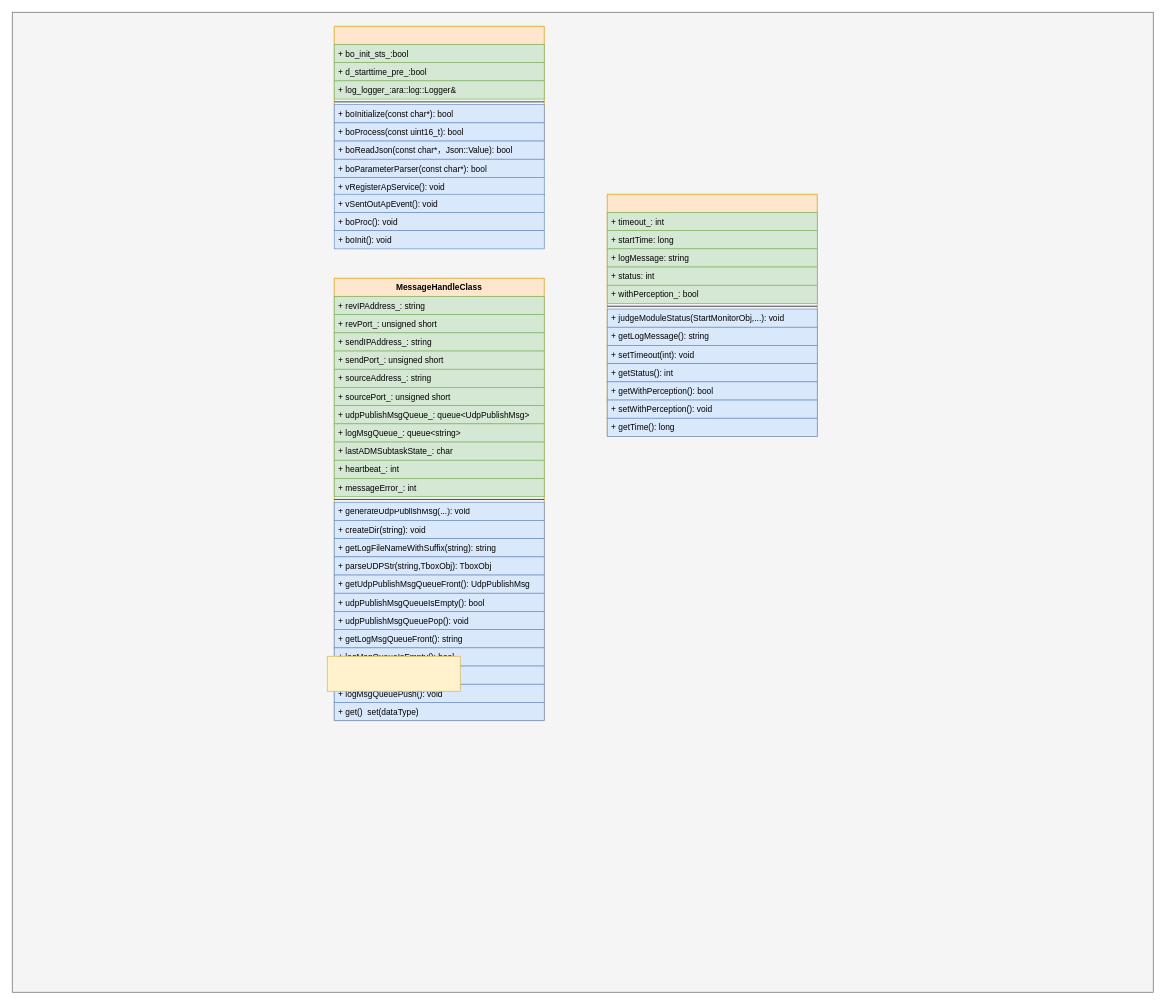
Image size: 1166x1005. Some labels were removed from this diagram. Each missing label, with the box of its shape:
Component_tclComponentBase: (334, 26, 544, 159)
main method: (327, 656, 460, 691)
ModuleStatusMonitorClass: (607, 194, 817, 436)
